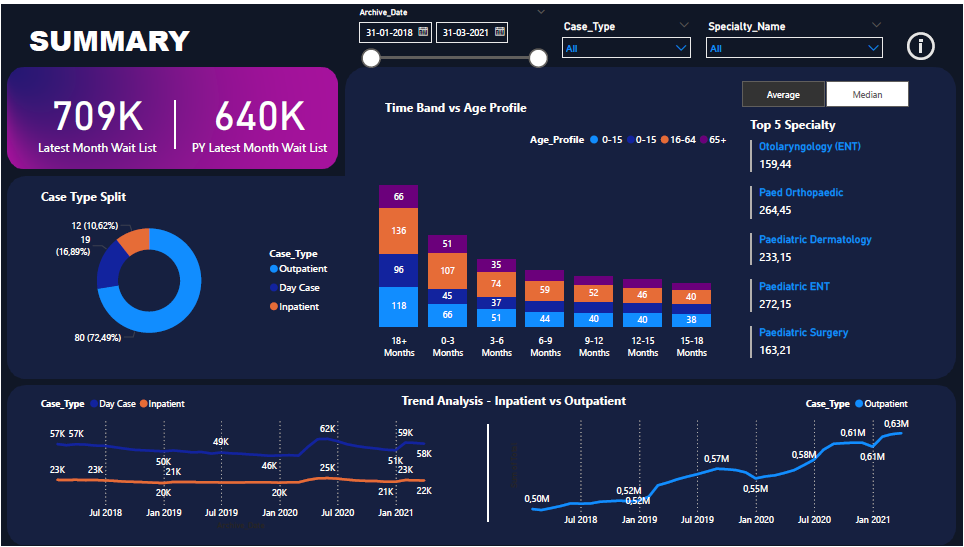

The dashboard page shown, as its layout file describes it:
{"tool":"powerbi","page":{"name":"Summary","canvas":[1280,720],"ordinal":0},"visuals":[{"type":"card","fields":{"Values":["All_Data.Latest Month Wait List"]},"box":[32,96,192,112],"z":0},{"type":"card","fields":{"Values":["All_Data.PY Latest Month Wait List"]},"box":[208,96,272,112],"z":1000},{"type":"slicer","fields":{"Values":["Calculation Method.Calc Method"]},"box":[960,96,272,48],"z":2000},{"type":"donutChart","fields":{"Category":["All_Data.Case_Type"],"Y":["All_Data.Avg/Med Wait List"]},"box":[32,272,416,192],"z":3000},{"type":"columnChart","fields":{"Y":["All_Data.Avg/Med Wait List"],"Category":["All_Data.Time_Bands"],"Series":["All_Data.Age_Profile"]},"box":[464,160,512,320],"z":4000},{"type":"multiRowCard","fields":{"Values":["All_Data.Speciality_Name","All_Data.Avg/Med Wait List"]},"box":[992,176,240,320],"z":5000},{"type":"lineChart","fields":{"Category":["All_Data.Archive_Date"],"Y":["Sum(All_Data.Total)"],"Series":["All_Data.Case_Type"]},"box":[48,512,544,192],"z":6000},{"type":"lineChart","fields":{"Category":["All_Data.Archive_Date"],"Y":["Sum(All_Data.Total)"],"Series":["All_Data.Case_Type"]},"box":[672,512,544,192],"z":7000},{"type":"slicer","fields":{"Values":["All_Data.Archive_Date"]},"box":[464,0,272,96],"z":8000},{"type":"slicer","fields":{"Values":["All_Data.Case_Type"]},"box":[736,16,192,64],"z":9000},{"type":"slicer","fields":{"Values":["All_Data.Specialty_Name"]},"box":[928,16,256,64],"z":10000},{"type":"textbox","box":[32,16,256,64],"z":11000},{"type":"shape","box":[160,128,144,64],"z":12000},{"type":"textbox","box":[528,512,352,64],"z":13000},{"type":"textbox","box":[48,240,256,64],"z":14000},{"type":"textbox","box":[506,122,272,64],"z":15000},{"type":"shape","box":[576,560,144,128],"z":16000},{"type":"textbox","box":[992,144,272,64],"z":17000},{"type":"actionButton","box":[1200,32,64,48],"z":18000}]}

Visuals, with their boxes in screenshot pixels (x1, y1, x2, y2), scaled from the page's 1280x720 canvas onto the 964x547 screenshot:
card - All_Data.Latest Month Wait List: region(24, 73, 169, 158)
card - All_Data.PY Latest Month Wait List: region(157, 73, 362, 158)
slicer - Calculation Method.Calc Method: region(723, 73, 928, 109)
donutChart - All_Data.Case_Type x All_Data.Avg/Med Wait List: region(24, 207, 337, 353)
columnChart - All_Data.Avg/Med Wait List x All_Data.Time_Bands: region(349, 122, 735, 365)
multiRowCard - All_Data.Speciality_Name x All_Data.Avg/Med Wait List: region(747, 134, 928, 377)
lineChart - All_Data.Archive_Date x Sum(All_Data.Total): region(36, 389, 446, 535)
lineChart - All_Data.Archive_Date x Sum(All_Data.Total): region(506, 389, 916, 535)
slicer - All_Data.Archive_Date: region(349, 0, 554, 73)
slicer - All_Data.Case_Type: region(554, 12, 699, 61)
slicer - All_Data.Specialty_Name: region(699, 12, 892, 61)
textbox: region(24, 12, 217, 61)
shape: region(120, 97, 229, 146)
textbox: region(398, 389, 663, 438)
textbox: region(36, 182, 229, 231)
textbox: region(381, 93, 586, 141)
shape: region(434, 425, 542, 523)
textbox: region(747, 109, 952, 158)
actionButton: region(904, 24, 952, 61)
